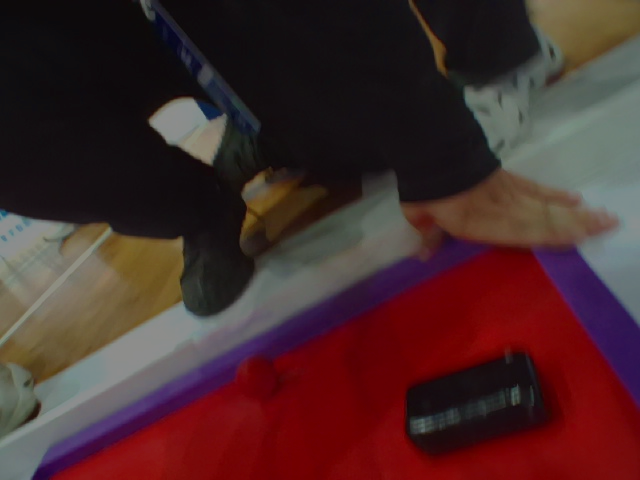black: (404, 348, 549, 449)
kuang: (24, 212, 640, 480)
red: (235, 358, 288, 393)
